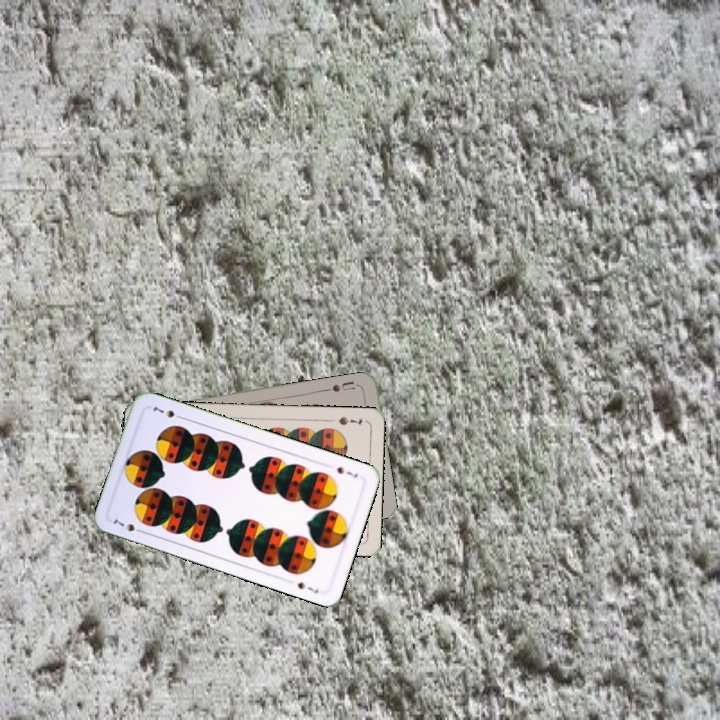S7: (109, 513, 147, 536), (332, 462, 360, 480), (334, 413, 365, 428)
SU: (328, 377, 357, 395)
